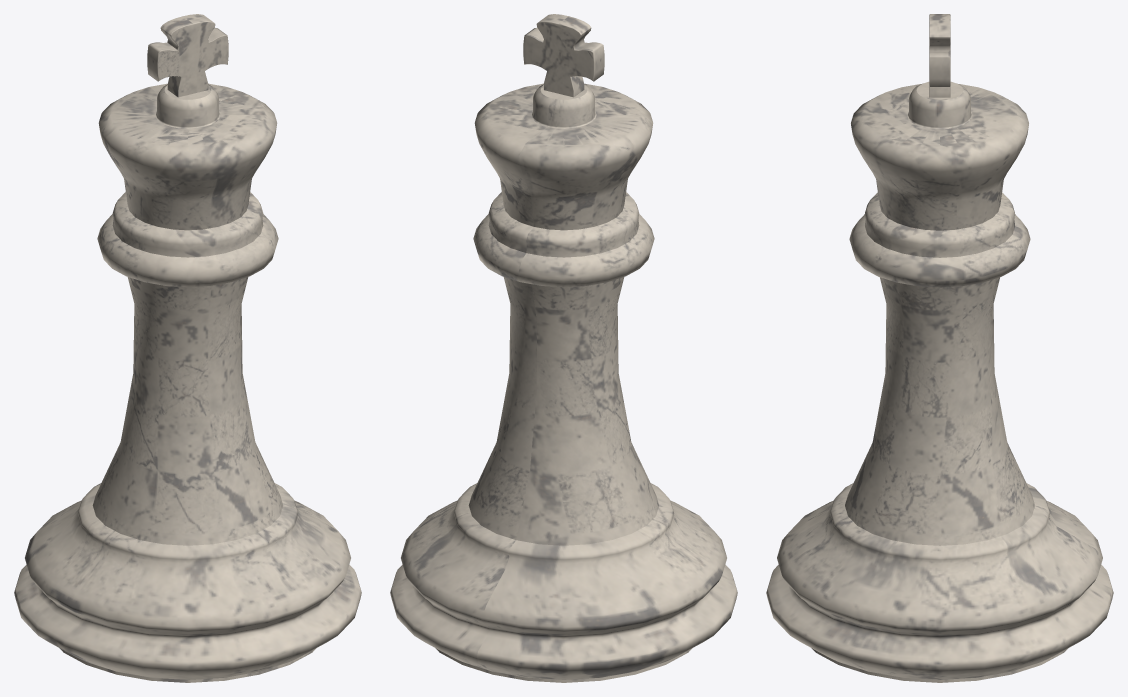
Rendered from mermer_k_w.glb.
3 renders of one model, left to right at view 1: azimuth 30°, elevation 25°; view 2: azimuth 150°, elevation 25°; view 3: azimuth 270°, elevation 25°, orthographic.
Visible parts, largest first — view 1: SM_King; view 2: SM_King; view 3: SM_King.
Boxes of the visible parts, left/top/right/bottom form: SM_King: left=14, top=14, right=361, bottom=682; SM_King: left=390, top=14, right=737, bottom=682; SM_King: left=766, top=14, right=1113, bottom=682.
Size of the model in its own units: 4.67 by 8.89 by 4.65.
1 material, 1 textured.
